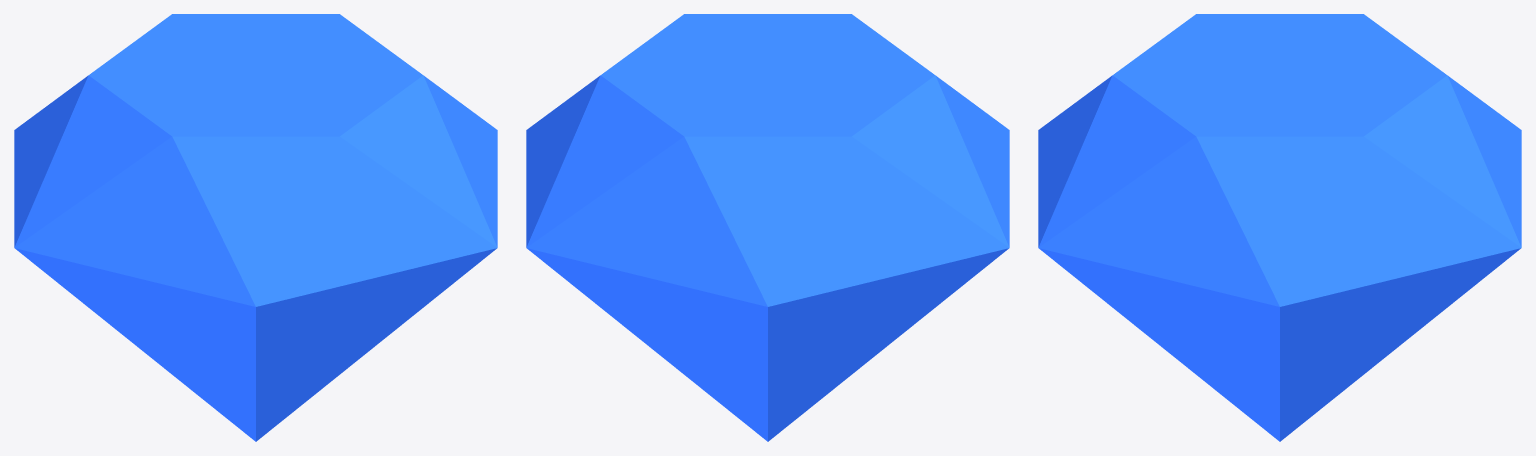
File: gem_sapphire_flawed.glb
The picture shows the model from 3 angles, left to right: view 1: azimuth 30°, elevation 25°; view 2: azimuth 150°, elevation 25°; view 3: azimuth 270°, elevation 25°; orthographic projection.
Visible parts, largest first — view 1: gem_sapphire_2; view 2: gem_sapphire_2; view 3: gem_sapphire_2.
Boxes of the visible parts, x1,y1,x2,y2 form: gem_sapphire_2: (14,14,497,441); gem_sapphire_2: (526,14,1009,441); gem_sapphire_2: (1038,14,1521,441).
Size of the model in its own units: 0.075 by 0.0544 by 0.065.
